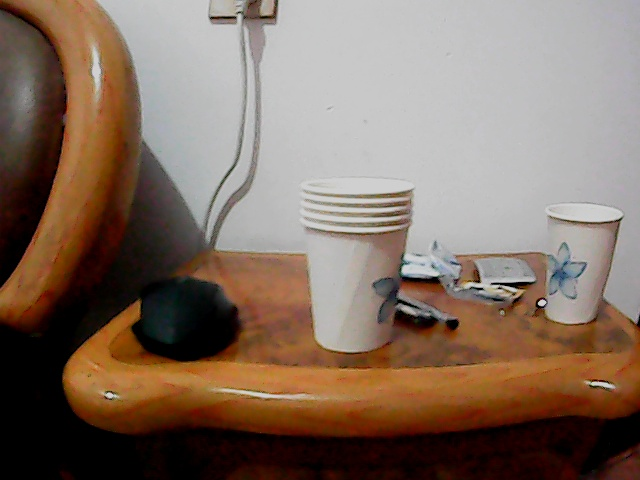cup: (297, 179, 410, 353)
mouse: (131, 270, 242, 361)
